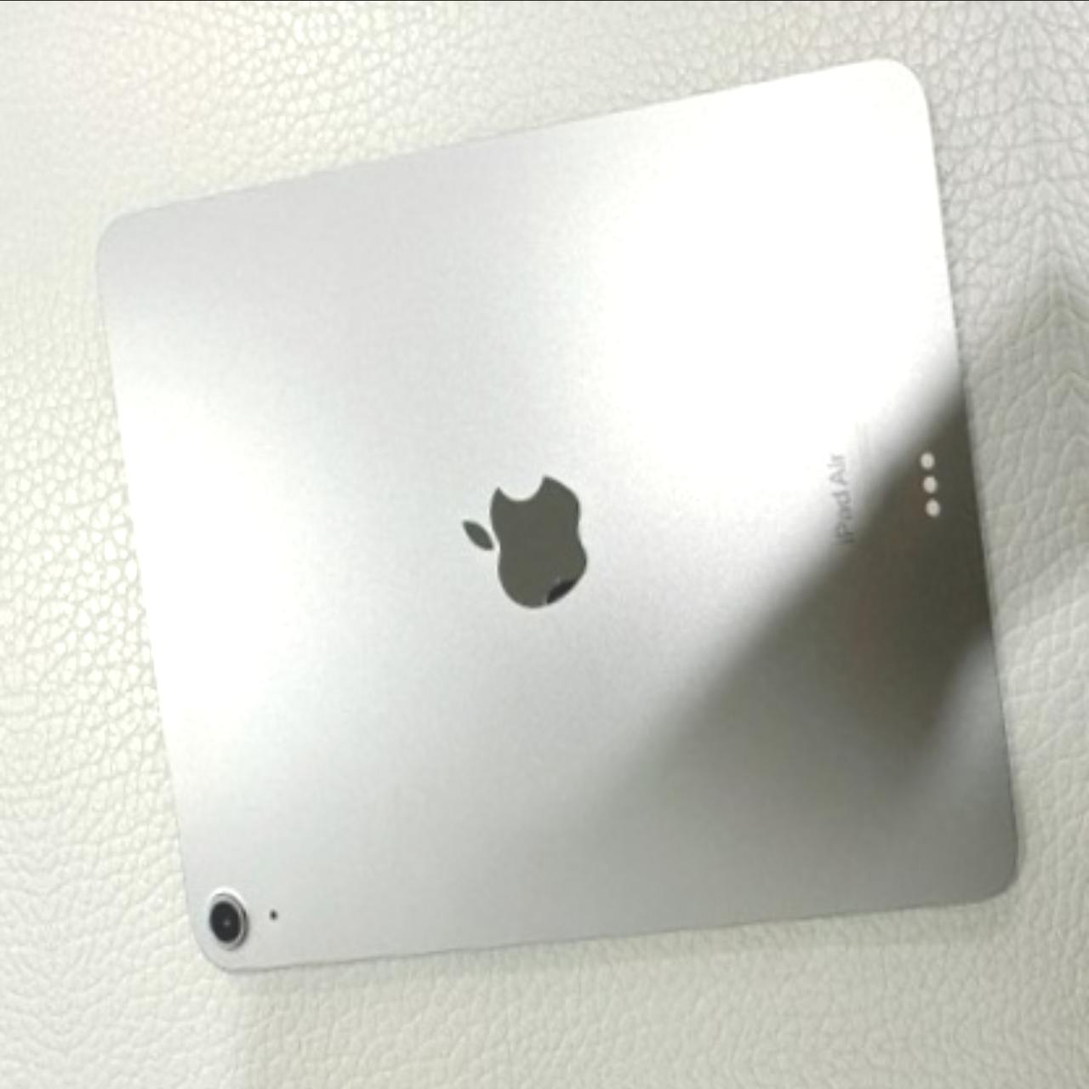Tablet_PC: (64, 25, 1069, 1022)
